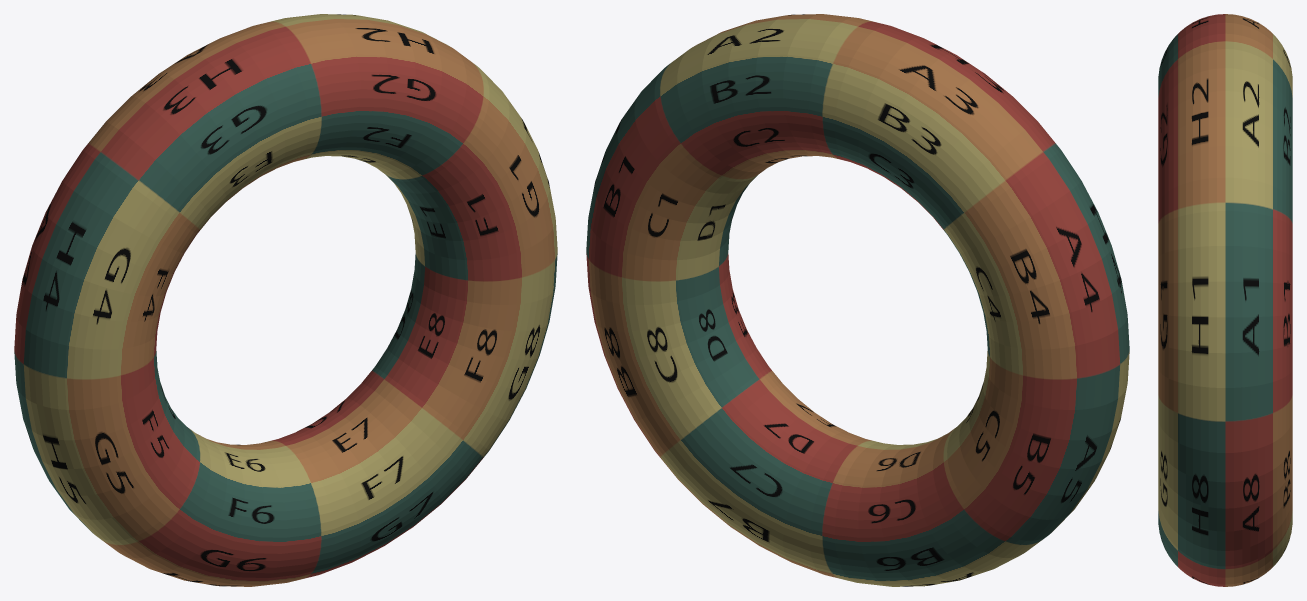
The model's file is texture_torus_R30_r27.glb.
The picture shows the model from 3 angles, left to right: view 1: azimuth 30°, elevation 25°; view 2: azimuth 150°, elevation 25°; view 3: azimuth 270°, elevation 25°; orthographic projection. The views are drawn at different scales.
Visible parts, largest first — view 1: world; view 2: world; view 3: world.
Boxes of the visible parts, x1=… form: world: x1=14, y1=14, x2=557, y2=586; world: x1=586, y1=14, x2=1129, y2=586; world: x1=1158, y1=14, x2=1292, y2=586.
Bounding box in the file's own units: 39.2 × 39.12 × 9.18.
1 material, 1 textured.
